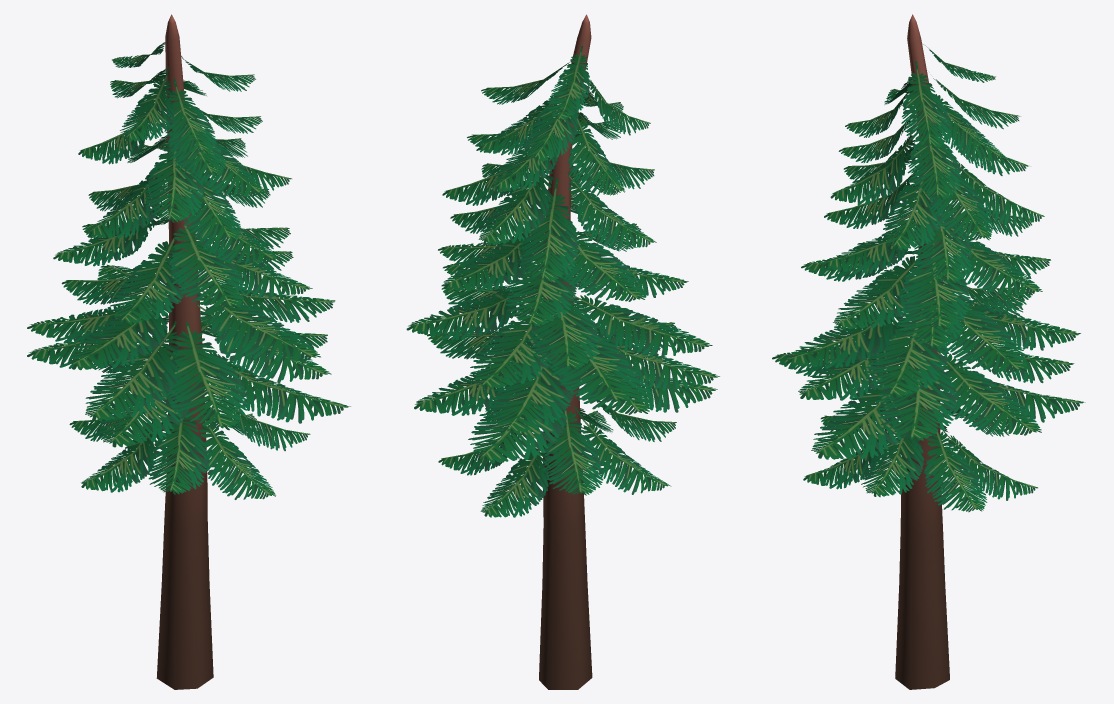
Rendered from Pine_Tree_2E.fbx.
3 views of the same model, side by side, from view 1: azimuth 30°, elevation 25°; view 2: azimuth 150°, elevation 25°; view 3: azimuth 270°, elevation 25° (orthographic). The views are drawn at different scales.
Visible parts, largest first — view 1: Pine_Tree_2E; view 2: Pine_Tree_2E; view 3: Pine_Tree_2E.
Part boxes in pixels (x1,y1,x2,y2): Pine_Tree_2E: [27, 14, 350, 689]; Pine_Tree_2E: [406, 14, 719, 689]; Pine_Tree_2E: [772, 14, 1085, 689].
Size of the model in its own units: 385 by 842 by 394.
